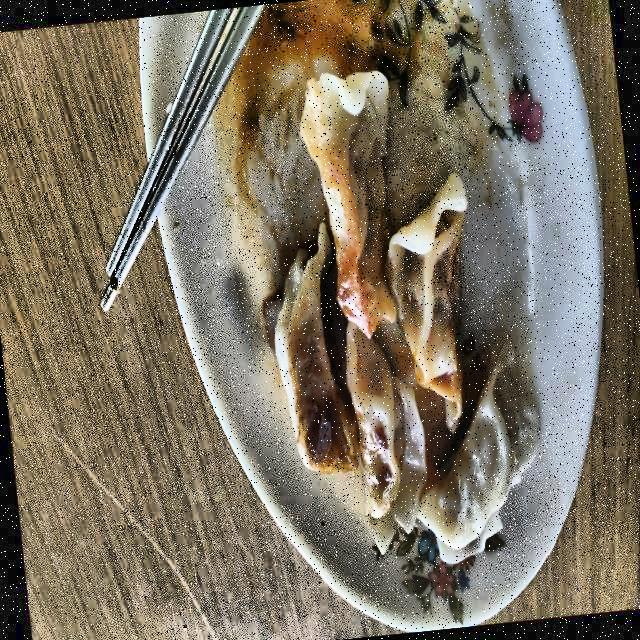Food: (241, 52, 556, 582)
